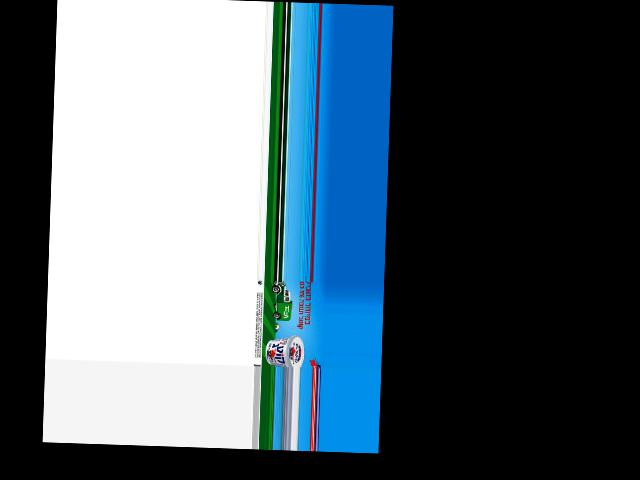cotage: (264, 334, 305, 367)
